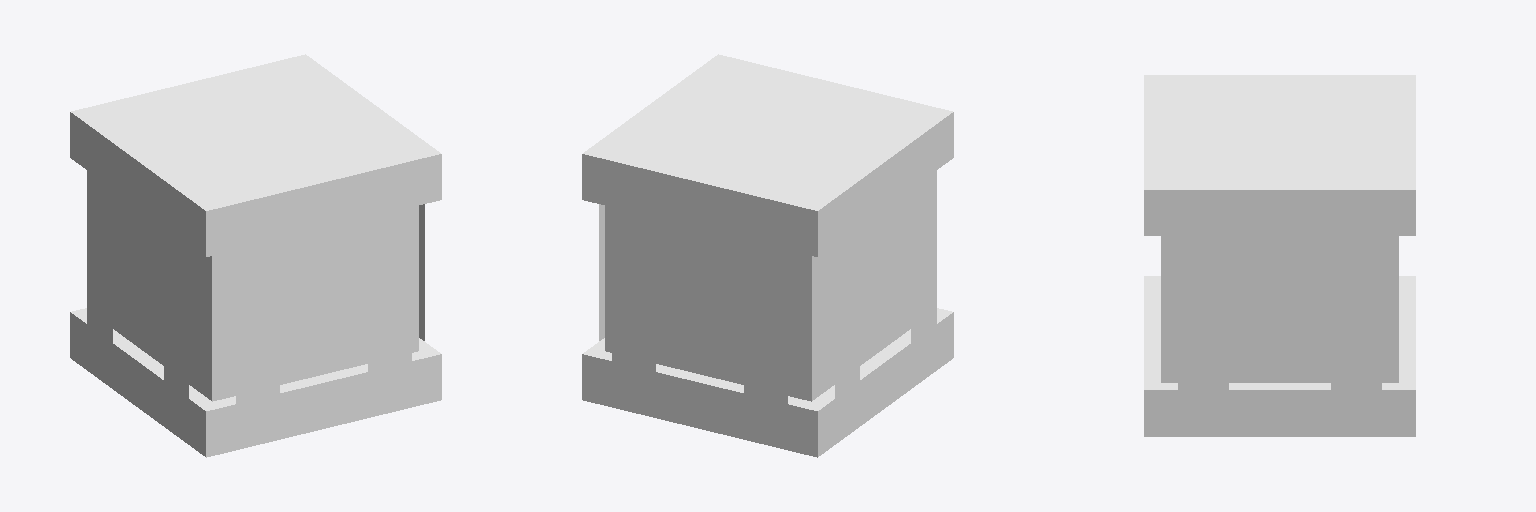
The model's file is conservecrate_old.obj.
3 views of the same model, side by side, from view 1: azimuth 30°, elevation 25°; view 2: azimuth 150°, elevation 25°; view 3: azimuth 270°, elevation 25° (orthographic).
Parts seen in each view (by area): view 1: conservecrate; view 2: conservecrate; view 3: conservecrate.
Part boxes in pixels (x1,y1,x2,y2): conservecrate: (70, 54, 441, 457); conservecrate: (582, 54, 953, 457); conservecrate: (1144, 75, 1415, 436).
Bounding box in the file's own units: 1 × 1 × 1.